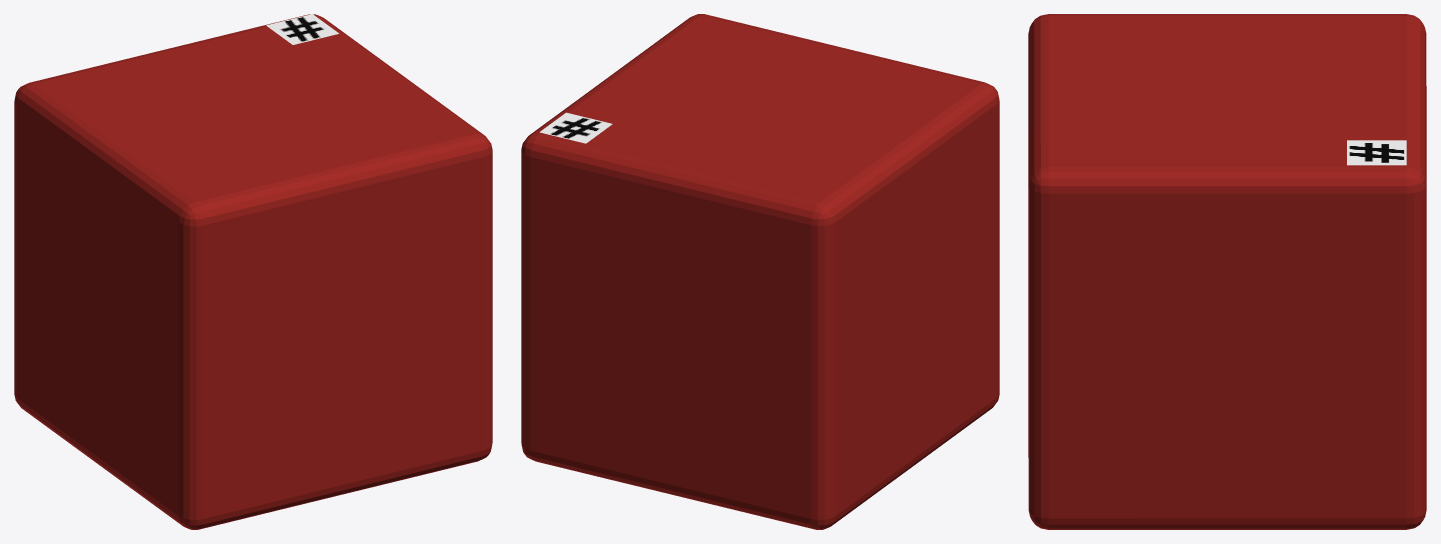
The model's file is Subjekt_Highlight_Hashtag.dae.
3 renders of one model, left to right at view 1: azimuth 30°, elevation 25°; view 2: azimuth 150°, elevation 25°; view 3: azimuth 270°, elevation 25°, orthographic. The views are drawn at different scales.
Visible parts, largest first — view 1: Cube, Plane; view 2: Cube, Plane; view 3: Cube, Plane.
Part boxes in pixels (<box>): Cube: <box>14,14,492,529</box>; Plane: <box>266,14,339,44</box>; Cube: <box>521,14,999,529</box>; Plane: <box>539,112,612,143</box>; Cube: <box>1028,14,1426,529</box>; Plane: <box>1347,140,1406,165</box>.
Size of the model in its own units: 2 by 2 by 2.01.
2 materials, 1 textured.
